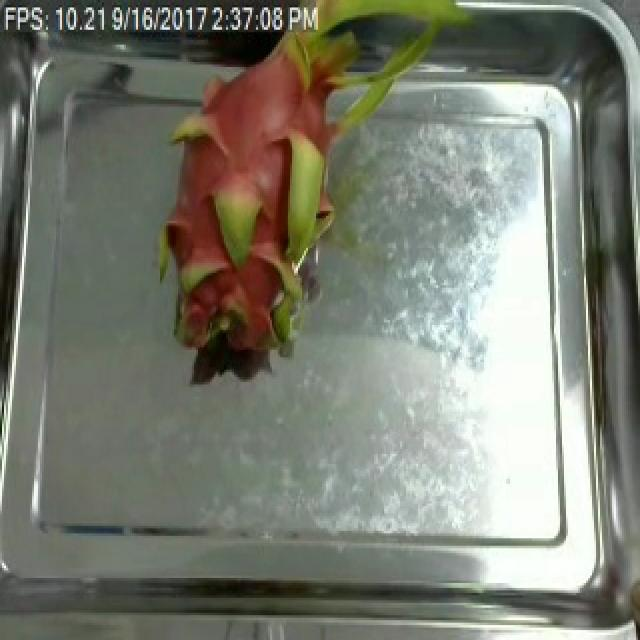fruit: (120, 2, 434, 394)
